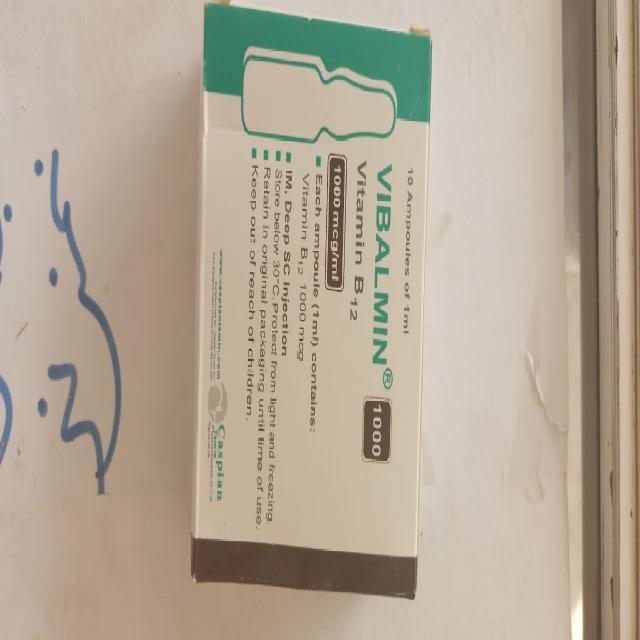drug-name: (370, 160, 392, 363)
